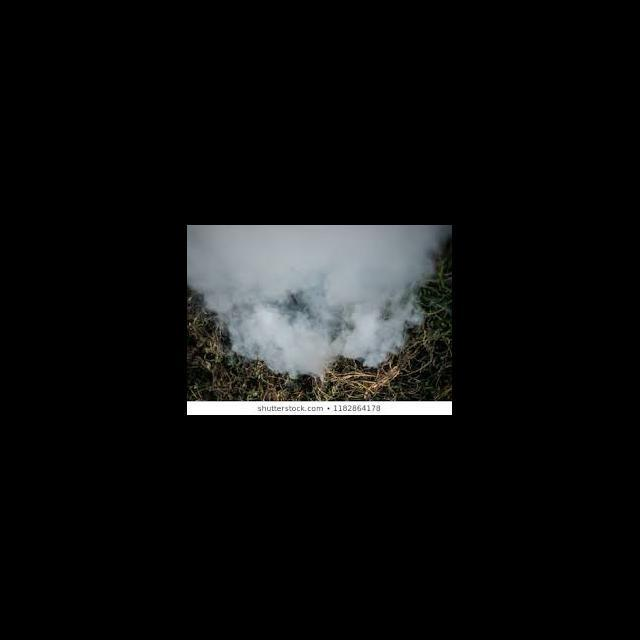Smoke: (188, 226, 450, 375)
